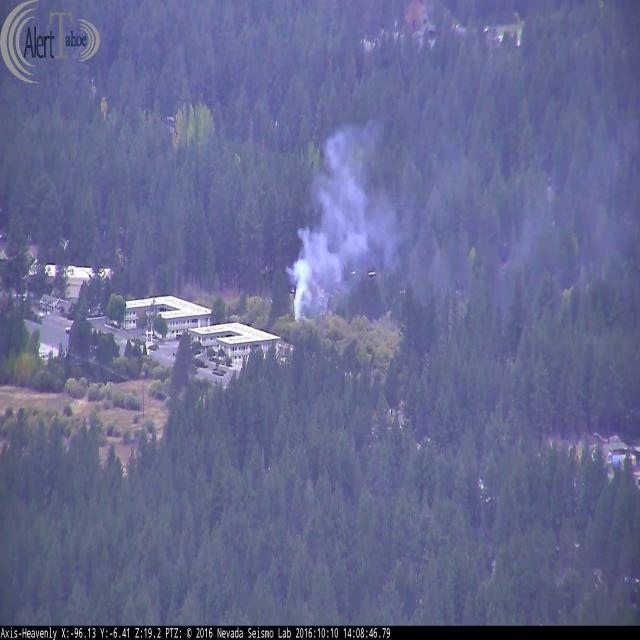smoke: (290, 105, 419, 323)
